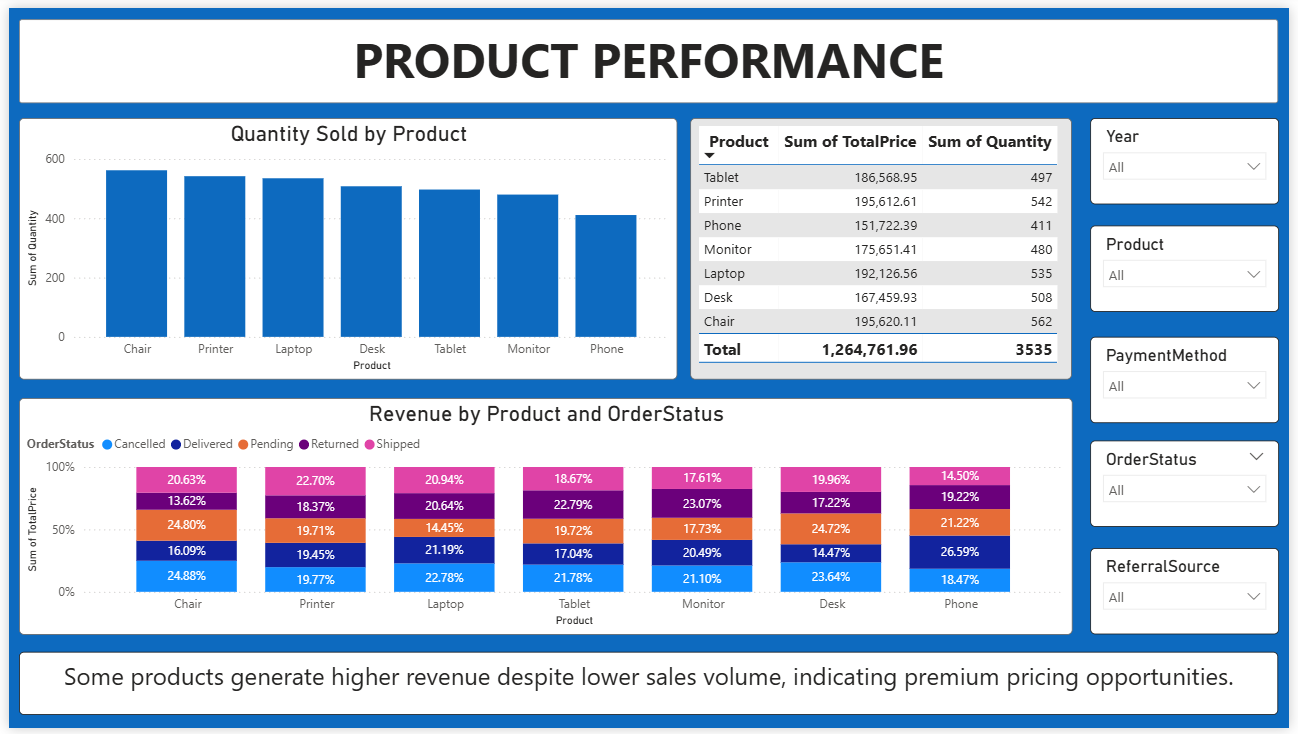

Layout of this report page (visuals, bound fields, positions):
{"tool":"powerbi","page":{"name":"Page 3","canvas":[1280,720],"ordinal":2},"visuals":[{"type":"textbox","box":[10.1,11.5,1259.5,83.7],"z":0},{"type":"textbox","box":[10.1,643.5,1259.5,63.5],"z":1000},{"type":"slicer","fields":{"Values":["E-Commerce Orders.Date.Variation.Date Hierarchy.Year"]},"box":[1080.6,109.6,189,86.6],"z":2000},{"type":"columnChart","title":"Quantity Sold by Product","fields":{"Category":["E-Commerce Orders.Product"],"Y":["Sum(E-Commerce Orders.Quantity)"]},"box":[10,110,658.3,261.7],"z":3000},{"type":"tableEx","fields":{"Values":["E-Commerce Orders.Product","Sum(E-Commerce Orders.TotalPrice)","Sum(E-Commerce Orders.Quantity)"]},"box":[681.7,110,381.7,261.7],"z":4000},{"type":"slicer","fields":{"Values":["E-Commerce Orders.Product"]},"box":[1080.6,217.9,189,86.6],"z":5000},{"type":"slicer","fields":{"Values":["E-Commerce Orders.PaymentMethod"]},"box":[1080.6,328.9,189,86.6],"z":6000},{"type":"slicer","fields":{"Values":["E-Commerce Orders.OrderStatus"]},"box":[1080.6,432.8,189,86.6],"z":7000},{"type":"slicer","fields":{"Values":["E-Commerce Orders.ReferralSource"]},"box":[1080.6,539.6,189,86.6],"z":8000},{"type":"hundredPercentStackedColumnChart","title":"Revenue by Product and OrderStatus","fields":{"Category":["E-Commerce Orders.Product"],"Y":["Sum(E-Commerce Orders.TotalPrice)"],"Series":["E-Commerce Orders.OrderStatus"]},"box":[10.1,389.5,1053.2,236.6],"z":9000}]}

Visuals, with their boxes in screenshot pixels (x1, y1, x2, y2), scaled from the page's 1280x720 canvas onto the 1298x734 screenshot:
textbox: <bbox>10, 12, 1287, 97</bbox>
textbox: <bbox>10, 656, 1287, 721</bbox>
slicer - E-Commerce Orders.Date.Variation.Date Hierarchy.Year: <bbox>1096, 112, 1287, 200</bbox>
"Quantity Sold by Product" columnChart: <bbox>10, 112, 678, 379</bbox>
tableEx - E-Commerce Orders.Product x Sum(E-Commerce Orders.TotalPrice): <bbox>691, 112, 1078, 379</bbox>
slicer - E-Commerce Orders.Product: <bbox>1096, 222, 1287, 310</bbox>
slicer - E-Commerce Orders.PaymentMethod: <bbox>1096, 335, 1287, 424</bbox>
slicer - E-Commerce Orders.OrderStatus: <bbox>1096, 441, 1287, 529</bbox>
slicer - E-Commerce Orders.ReferralSource: <bbox>1096, 550, 1287, 638</bbox>
"Revenue by Product and OrderStatus" hundredPercentStackedColumnChart: <bbox>10, 397, 1078, 638</bbox>
